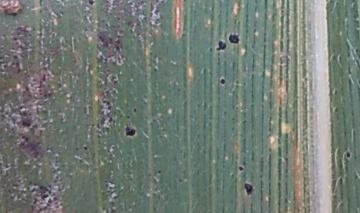tarspot: (228, 31, 241, 45), (124, 124, 136, 138), (243, 182, 255, 195), (215, 40, 227, 52), (5, 11, 17, 20), (14, 61, 22, 74), (21, 120, 32, 129), (20, 134, 29, 143), (41, 193, 49, 202), (100, 99, 110, 106), (11, 53, 19, 61), (97, 34, 104, 43), (237, 165, 245, 172), (82, 145, 89, 153), (131, 106, 138, 114), (345, 150, 351, 159), (219, 78, 226, 85), (125, 113, 131, 121), (114, 45, 120, 53), (208, 46, 214, 54), (156, 169, 162, 176), (87, 1, 95, 6), (152, 67, 158, 73), (354, 47, 359, 54)
